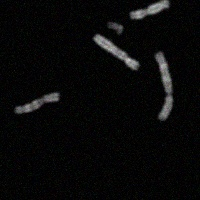chromosome: (94, 35, 139, 73), (157, 52, 174, 120), (13, 91, 60, 114), (129, 0, 169, 19), (104, 20, 123, 35)
